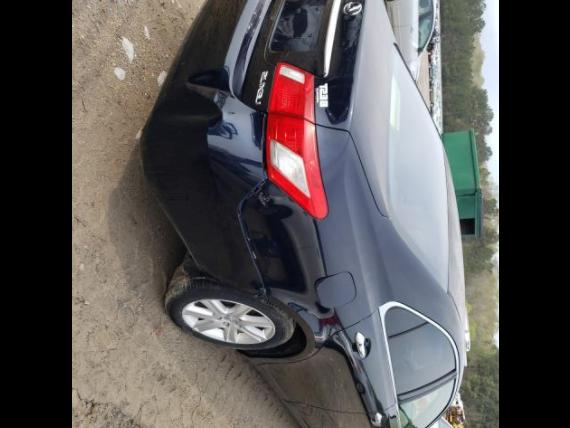Broken part: (234, 175, 272, 301), (257, 111, 269, 181)
Dent: (156, 54, 233, 138), (277, 9, 306, 37)
Missing part: (282, 2, 320, 39)
Scratch: (249, 186, 272, 209)
